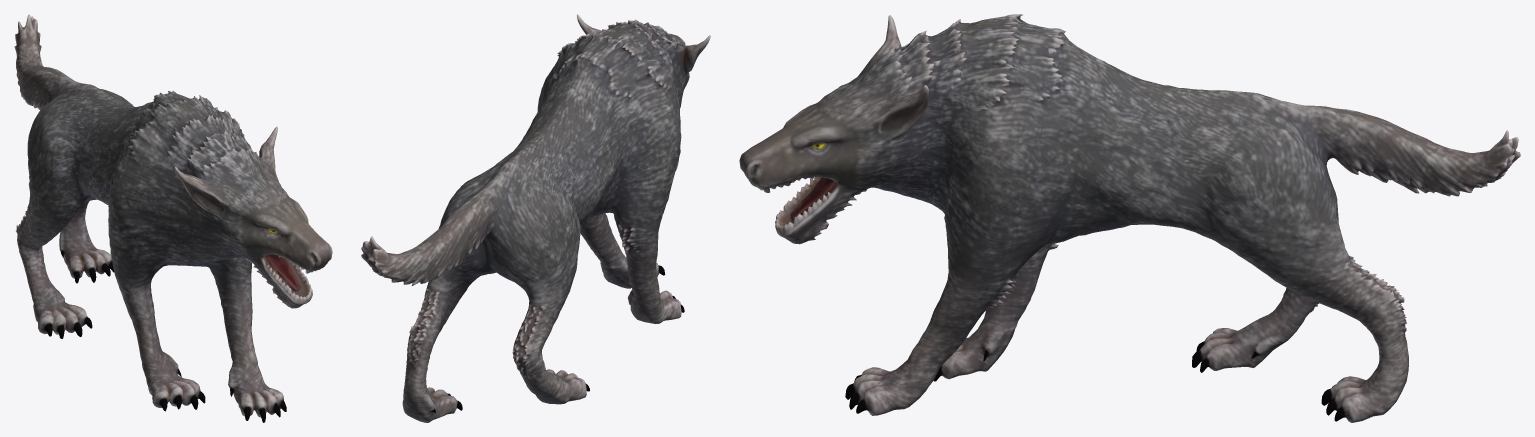
File: MZ4250 - Worg.glb
3 views of the same model, side by side, from view 1: azimuth 30°, elevation 25°; view 2: azimuth 150°, elevation 25°; view 3: azimuth 270°, elevation 25° (orthographic). The views are drawn at different scales.
Parts seen in each view (by area): view 1: Worg_low.002; view 2: Worg_low.002; view 3: Worg_low.002.
Boxes of the visible parts, bbox=[...] form: Worg_low.002: bbox=[14, 14, 332, 422]; Worg_low.002: bbox=[361, 14, 710, 422]; Worg_low.002: bbox=[739, 14, 1520, 422].
Bounding box in the file's own units: 6.33 × 12.47 × 24.21.
1 material, 1 textured.
